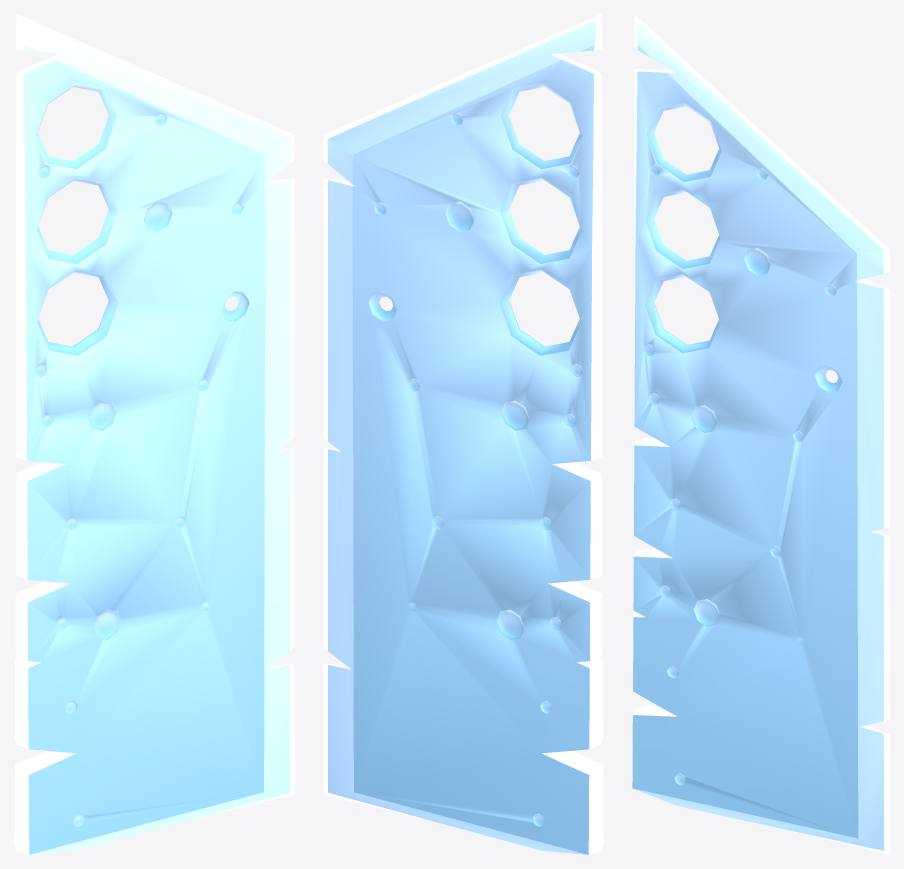
The model's file is steel_blade_bubbles_060.glb.
3 renders of one model, left to right at view 1: azimuth 30°, elevation 25°; view 2: azimuth 150°, elevation 25°; view 3: azimuth 330°, elevation 25°, orthographic. The views are drawn at different scales.
Parts seen in each view (by area): view 1: steel_blade_bubbles.060; view 2: steel_blade_bubbles.060; view 3: steel_blade_bubbles.060.
Boxes of the visible parts, x1,y1,x2,y2 form: steel_blade_bubbles.060: (14,14,294,854); steel_blade_bubbles.060: (323,14,603,854); steel_blade_bubbles.060: (632,14,889,854).
Bounding box in the file's own units: 4.06 × 11.85 × 0.374.
1 material, 1 textured.
